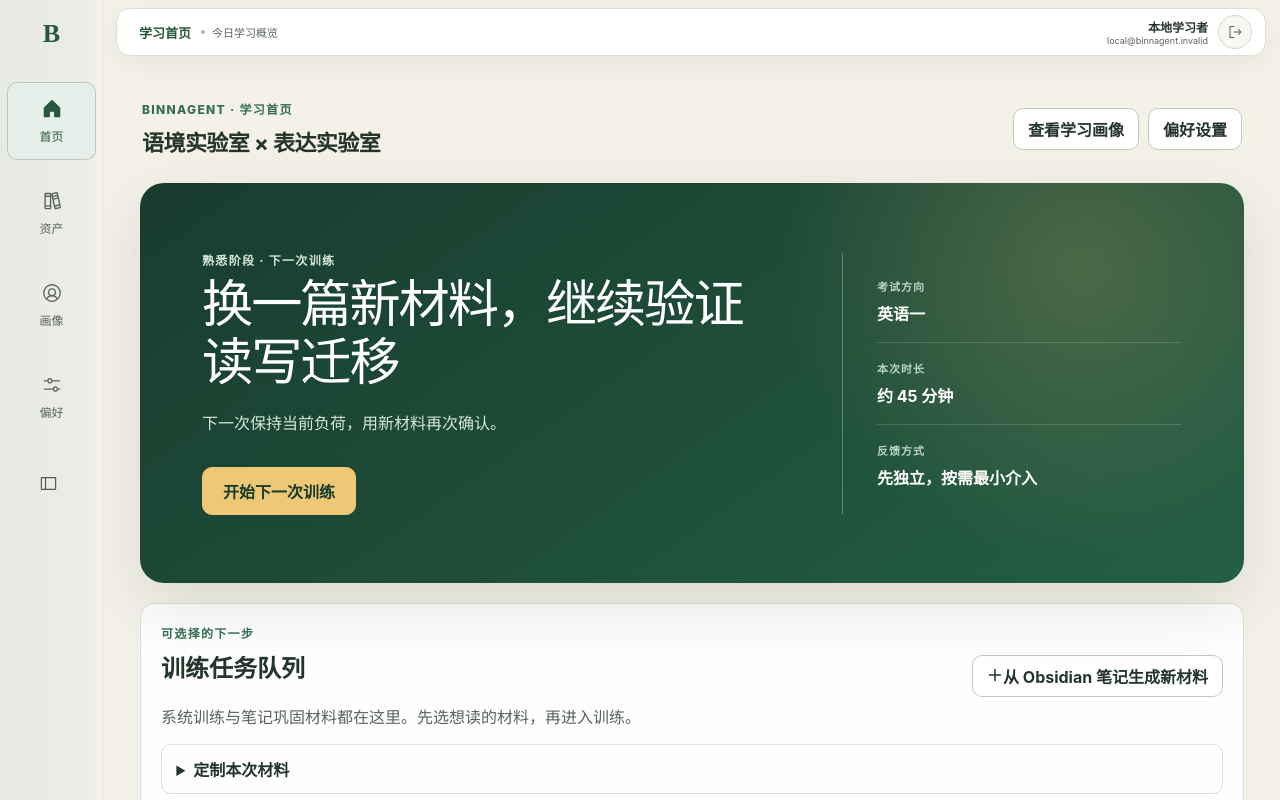
Test: learner home › shows persistent personalized materials in the home training queue
Expected: the heading "训练任务队列" is shown, x1=161 y1=654 x2=305 y2=683
Click the button "开始下一次训练" at x=279, y=491, box x1=202 y1=467 x2=356 y2=515
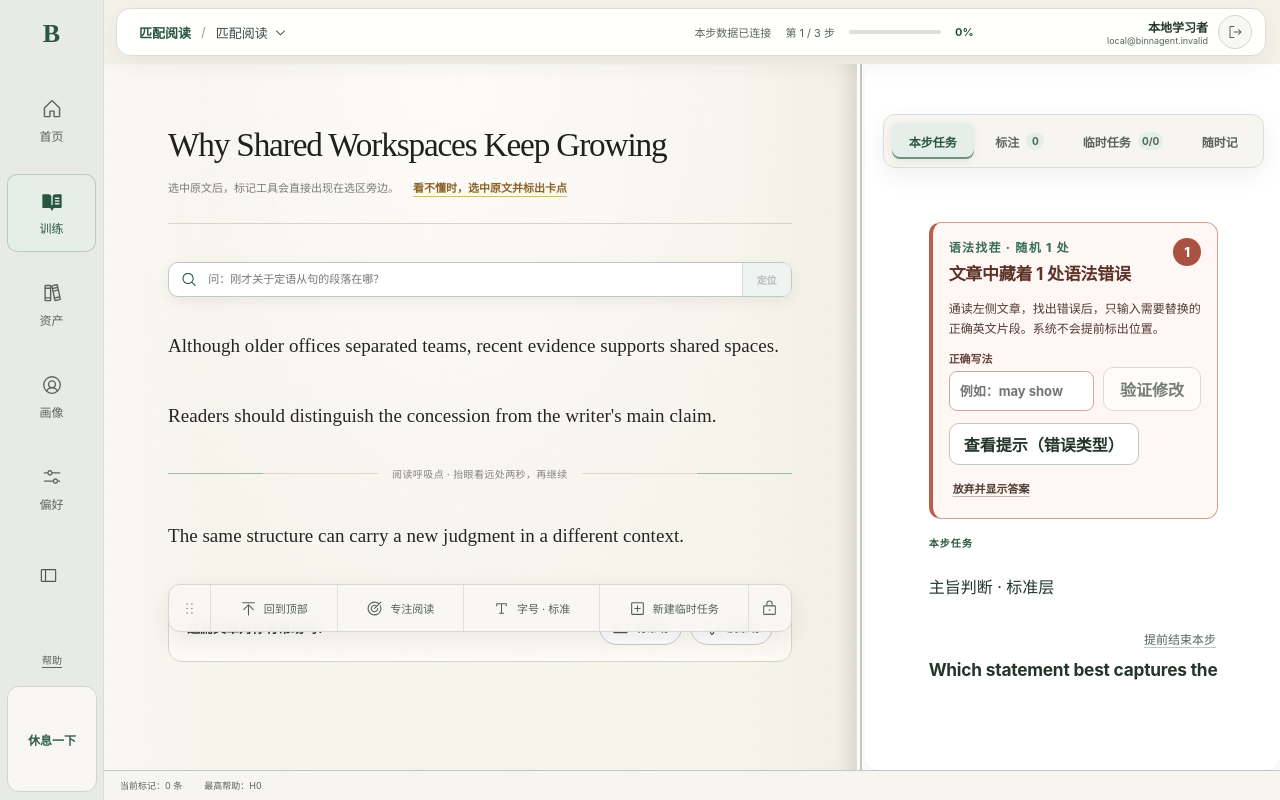
Expected: the text "recent evidence supports shared spaces" is shown, x1=168 y1=335 x2=779 y2=356
Expected: the button "提前结束本步" is enabled, x1=1142 y1=622 x2=1218 y2=654
